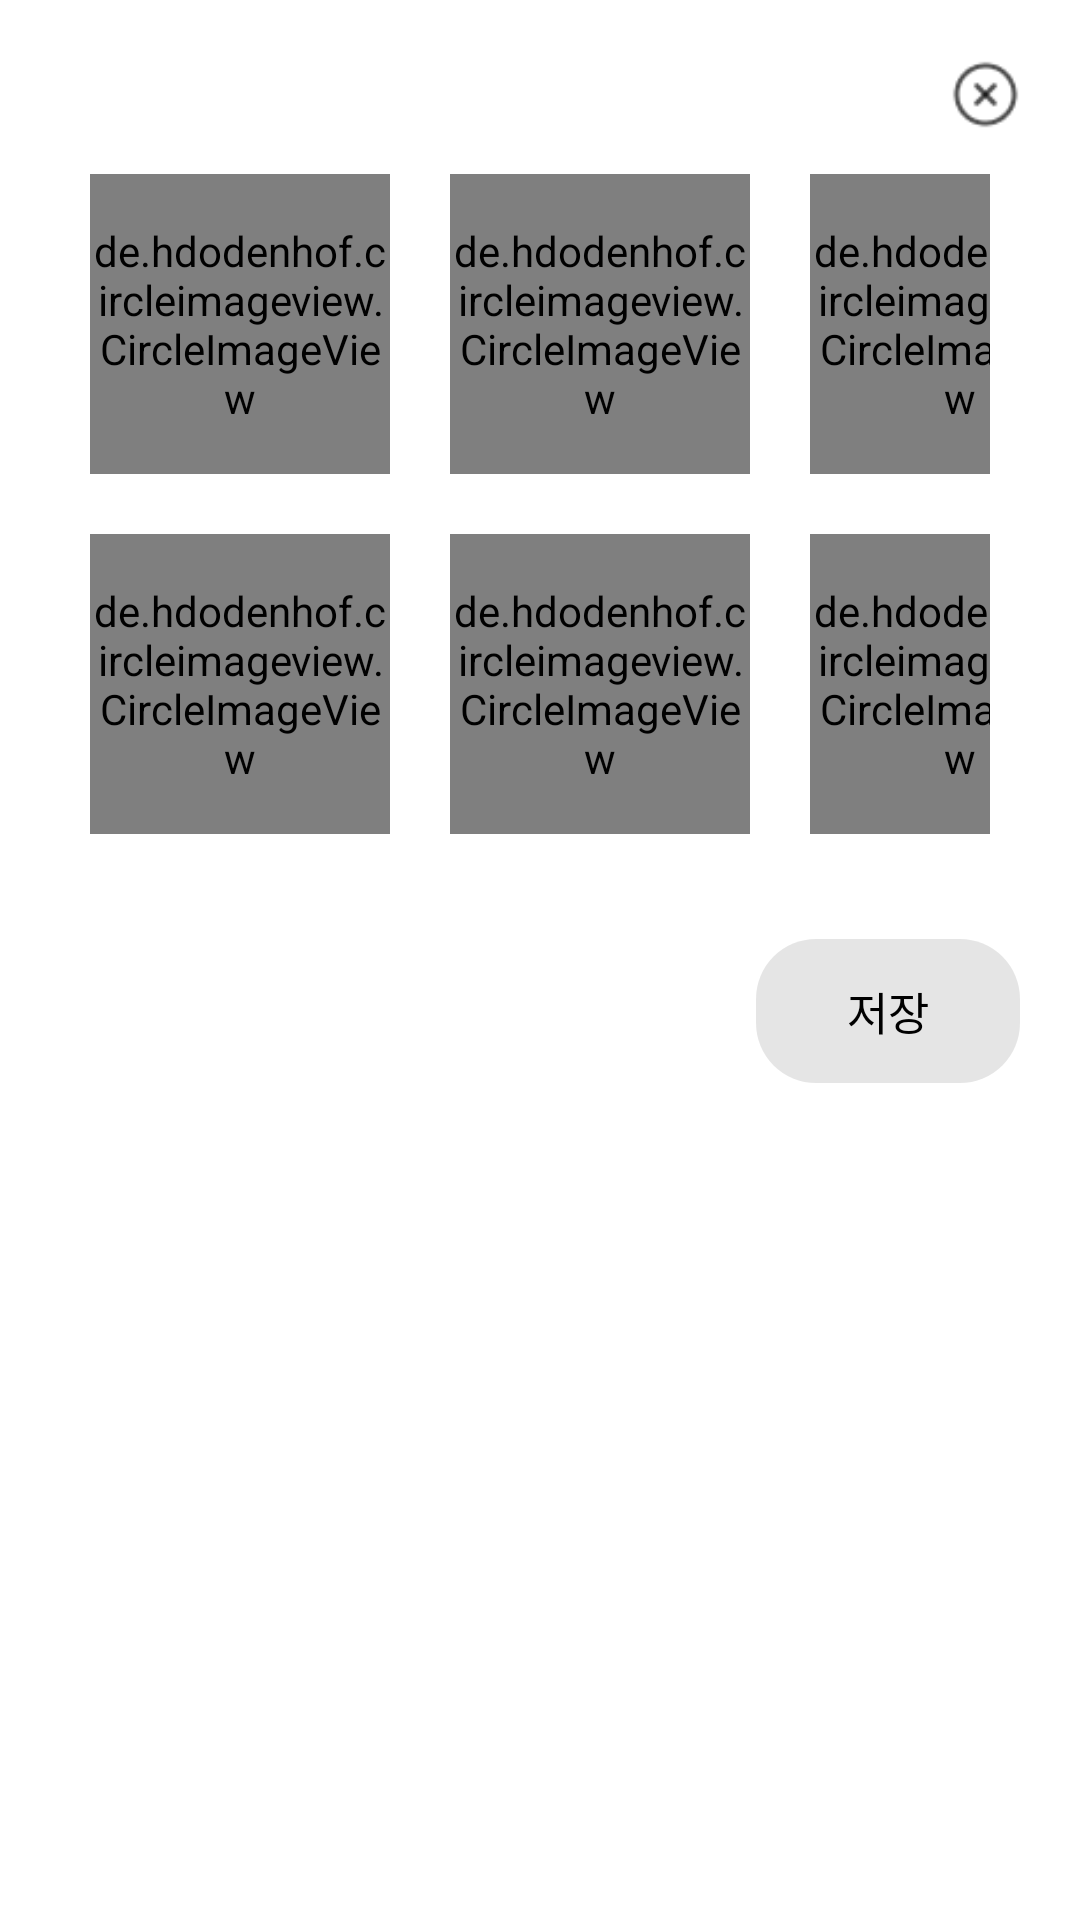

Named icons in this screenshot (1080×1920) and their bounding boxes, (x1, y1, x2, y2):
cancel: (953, 62, 1018, 127)
